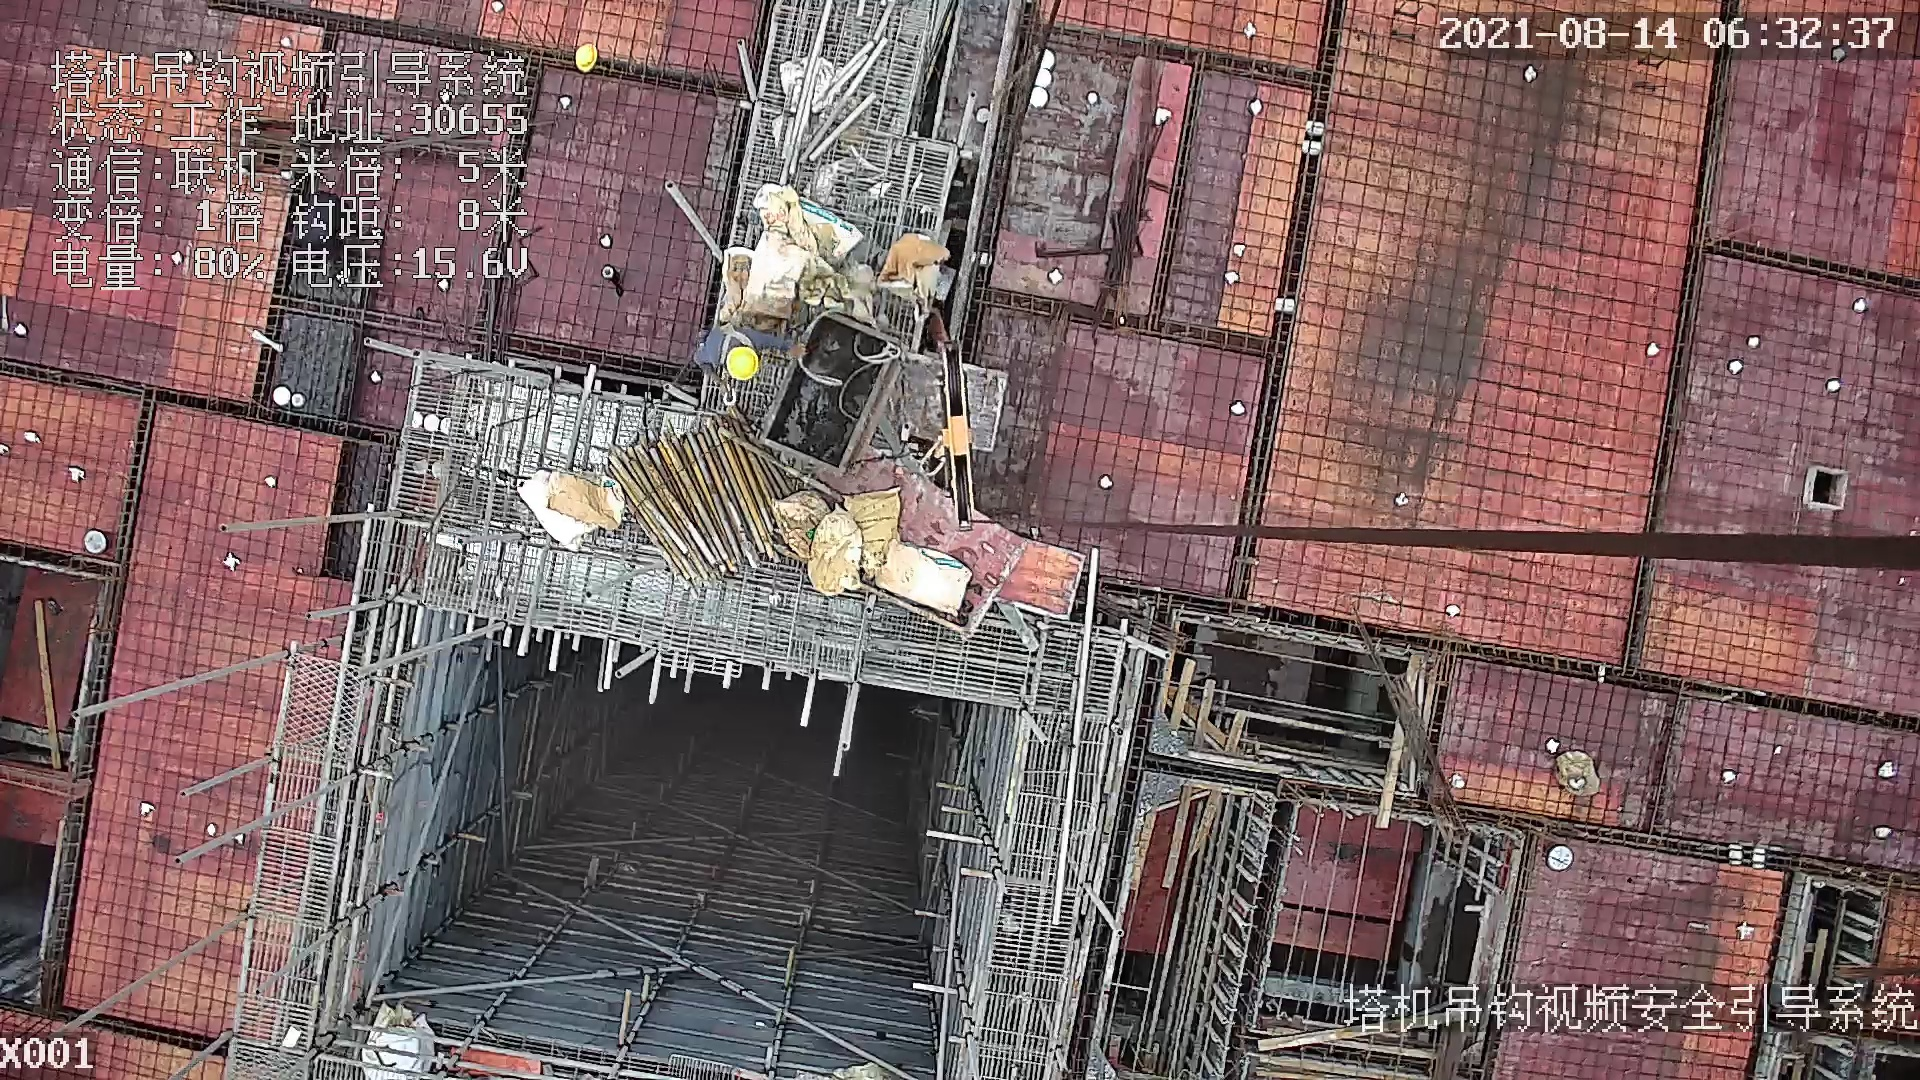helmet: (727, 349, 763, 384), (571, 44, 602, 73)
hook: (914, 339, 982, 535)
hopper: (783, 318, 909, 477)
person: (682, 318, 801, 403)
scaffold: (591, 428, 797, 600)
